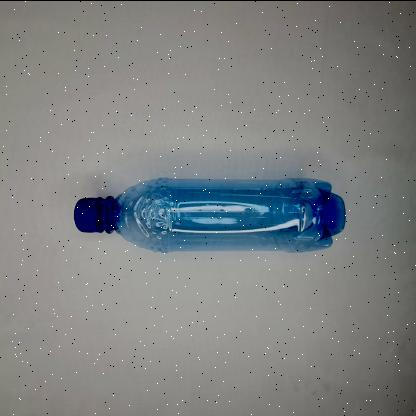Plastic Bottle: (73, 177, 345, 253)
